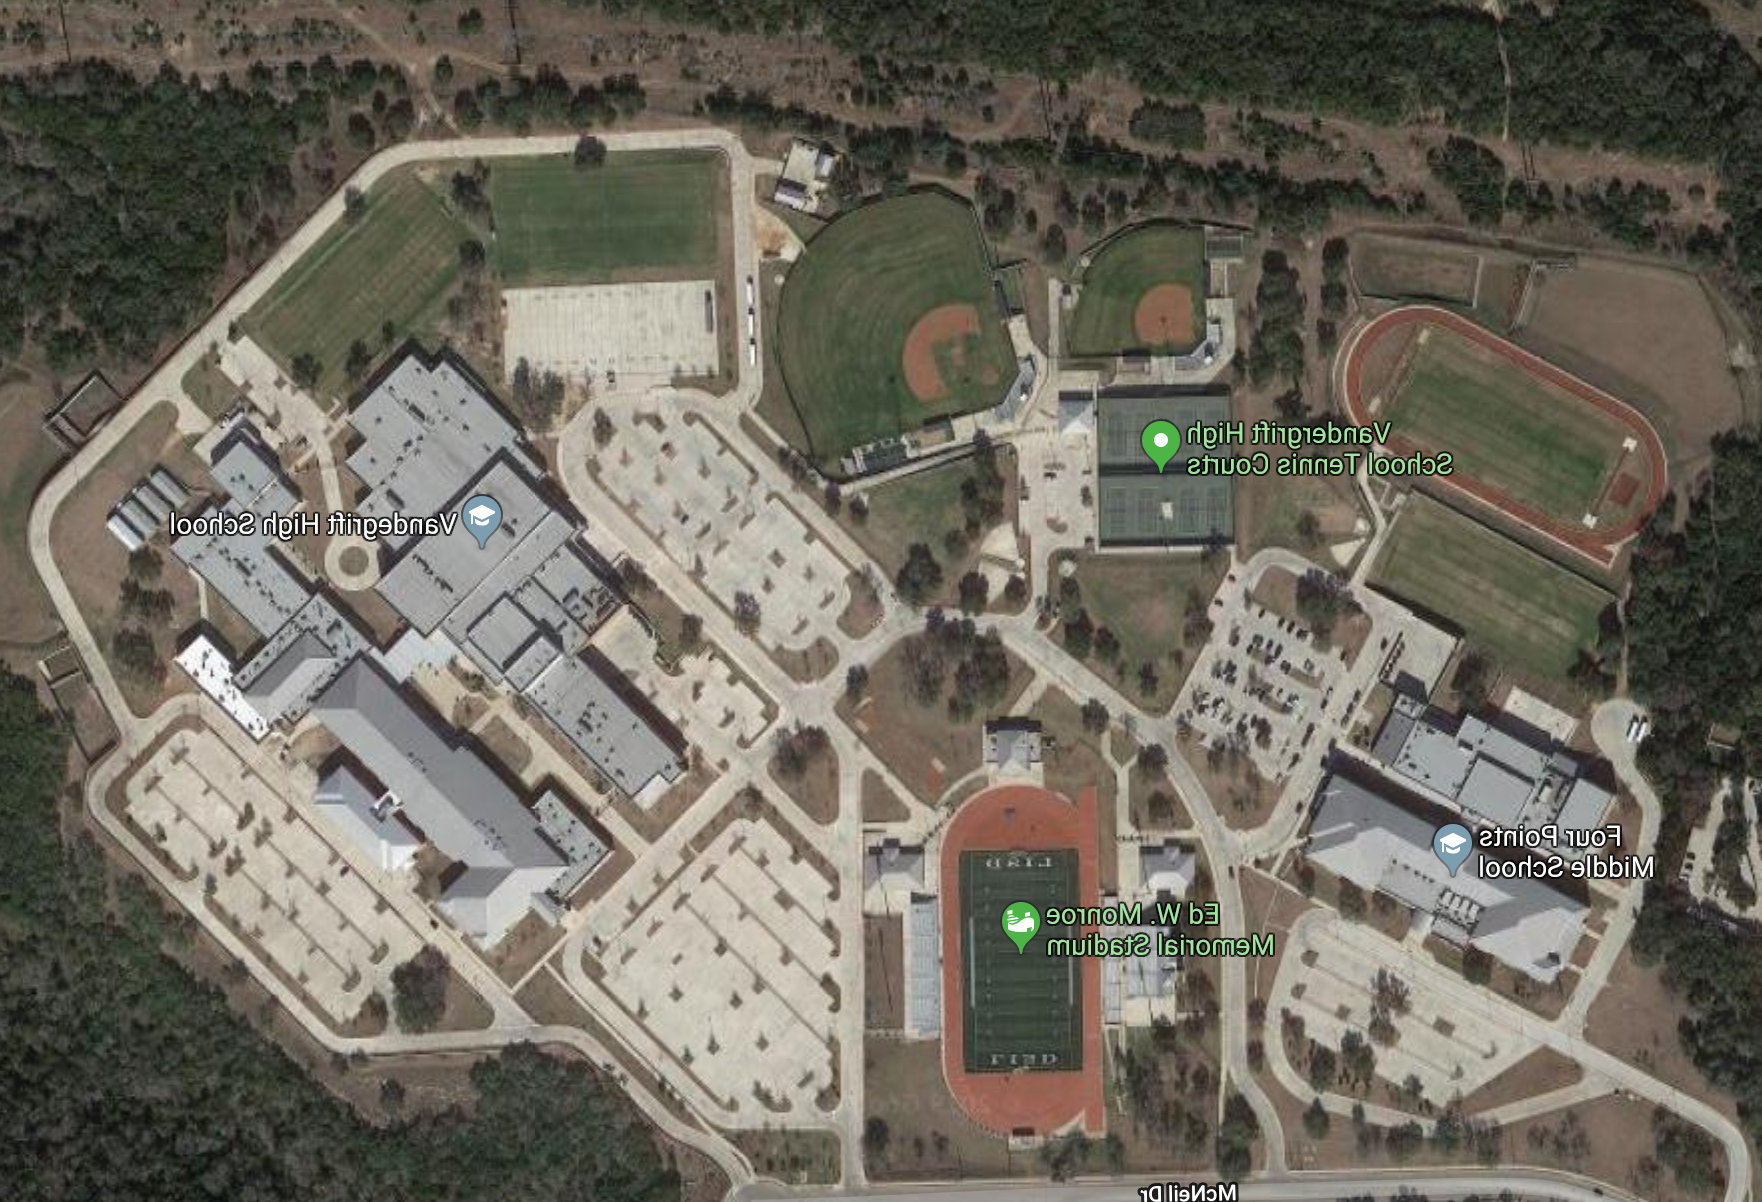baseball: (785, 169, 1032, 485), (1064, 193, 1237, 396)
football: (901, 767, 1153, 1161)
soccer: (1326, 281, 1708, 558), (481, 155, 724, 284)
